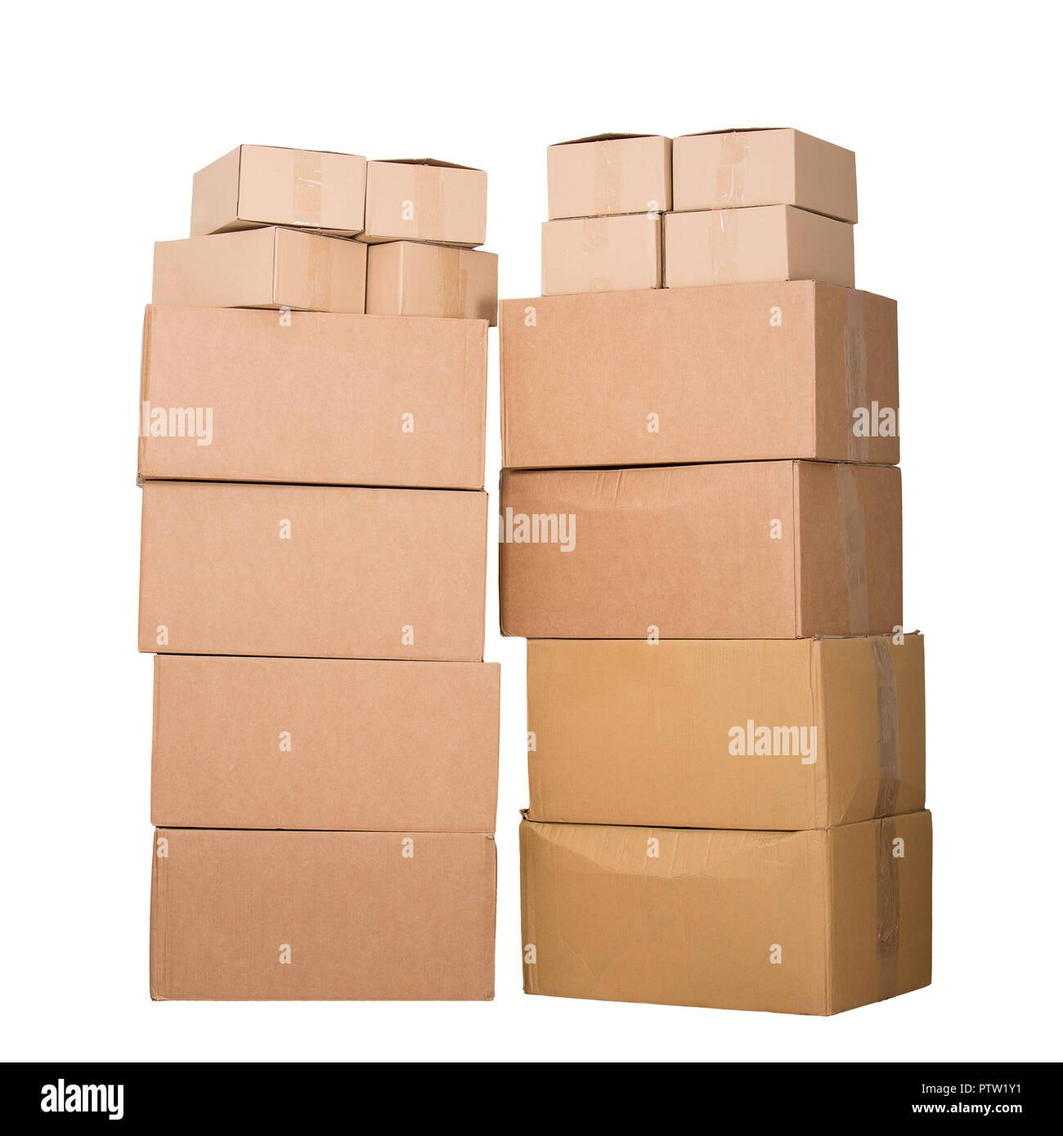Box: (519, 810, 932, 1015), (528, 632, 926, 830), (499, 280, 899, 468), (499, 462, 904, 639), (138, 304, 488, 489), (138, 481, 488, 661), (151, 655, 499, 832), (151, 828, 497, 1001), (153, 226, 366, 313), (673, 127, 858, 224), (192, 144, 366, 237), (662, 204, 854, 288), (355, 158, 488, 248), (367, 242, 499, 326), (547, 135, 671, 221), (541, 217, 659, 294)
